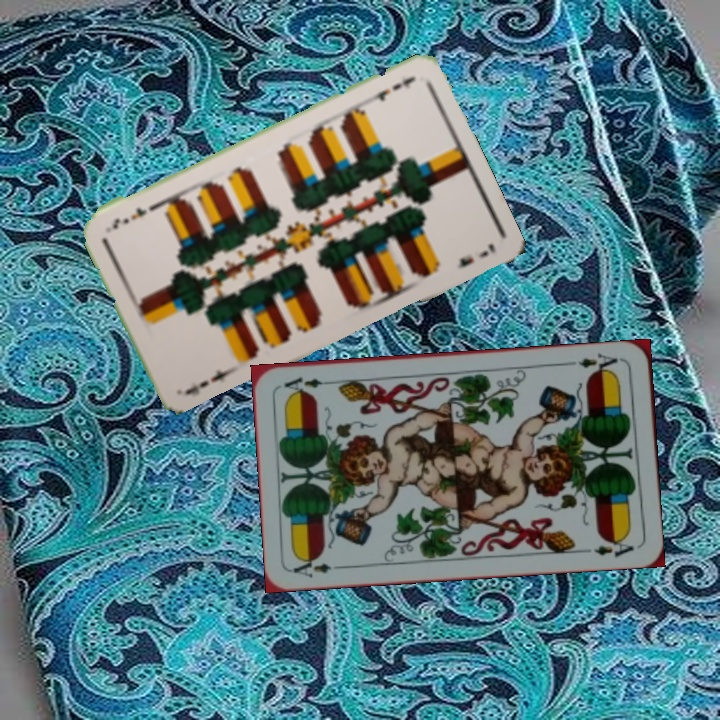E7: (181, 363, 237, 398), (364, 72, 418, 106)
EA: (289, 554, 348, 581), (574, 349, 625, 376)
